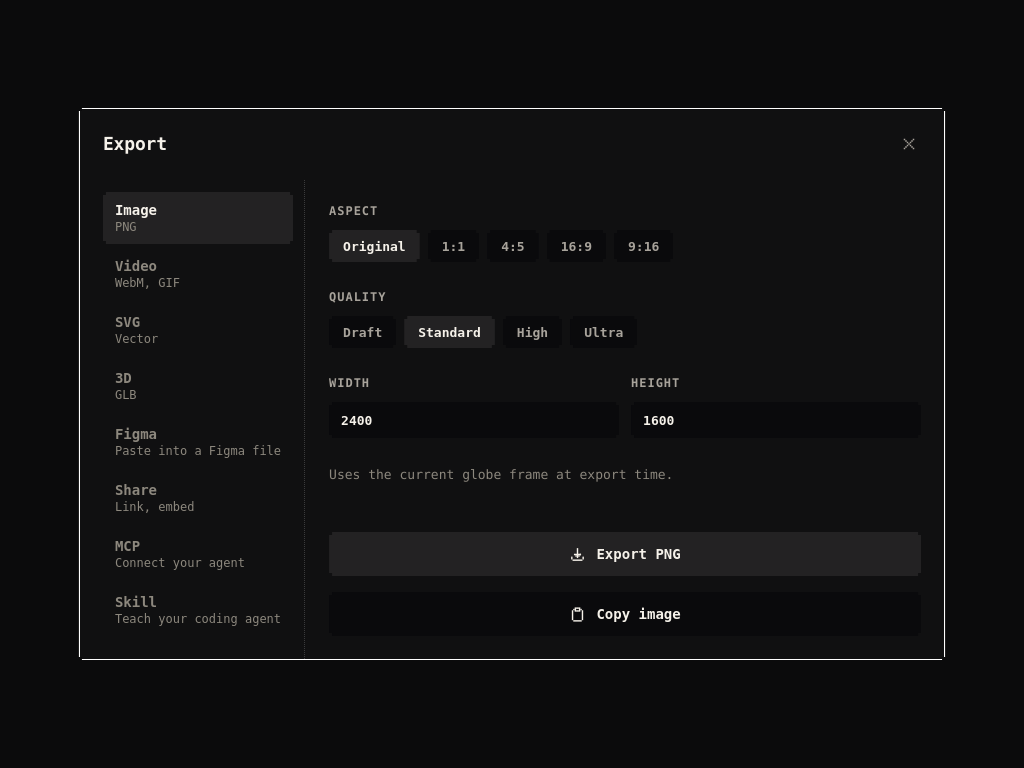
Test: ExportModal › the 3D tab › suggests nothing when Merged stays under 20 MB
Click the tab "3D GLB": (198, 386) [103,360,293,412]
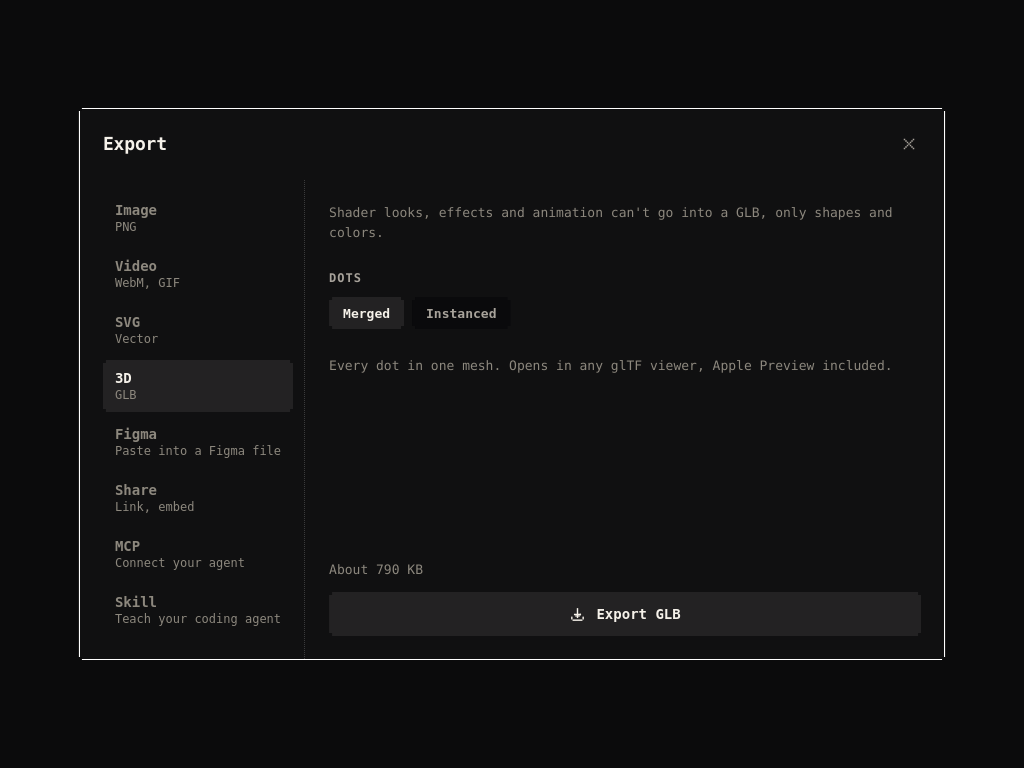
Expected: the message reads "About 790 KB", [329,562,423,578]
